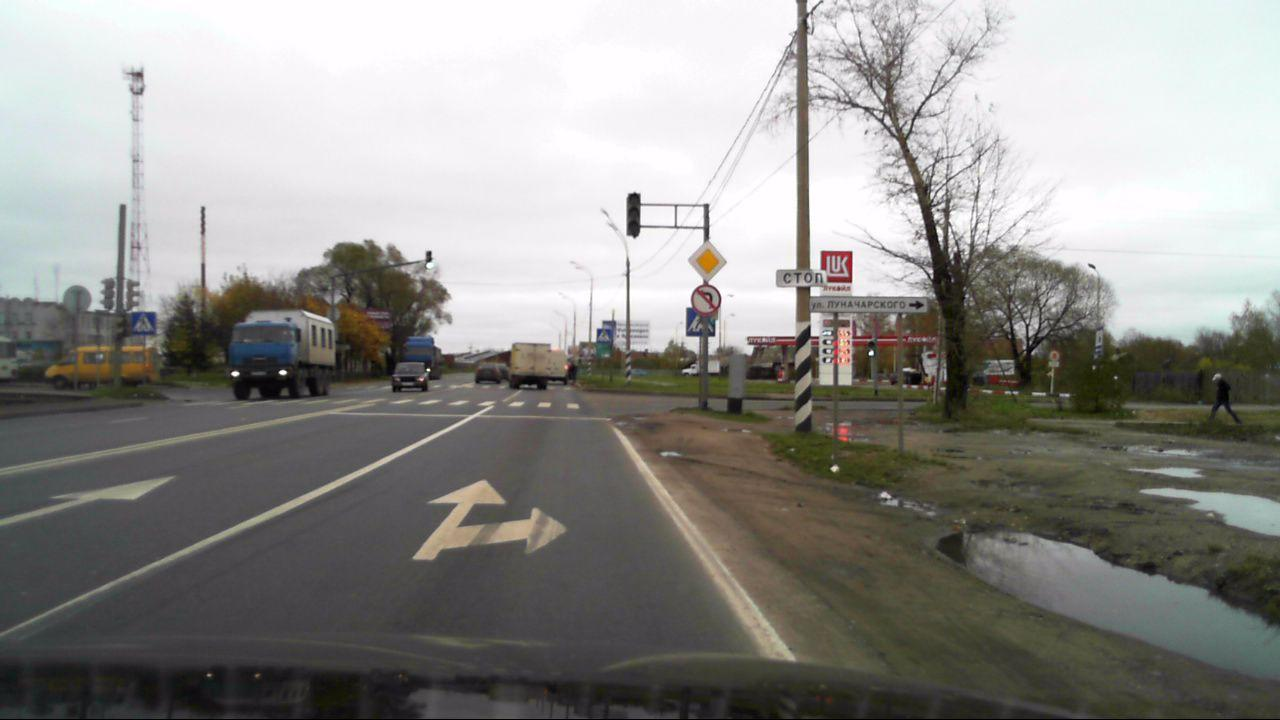2_1: (687, 240, 727, 281)
3_18_2: (691, 284, 722, 316)
5_19_1: (685, 307, 717, 337), (596, 328, 612, 344)
5_19_2: (133, 312, 157, 335)
6_16: (776, 269, 826, 288)
